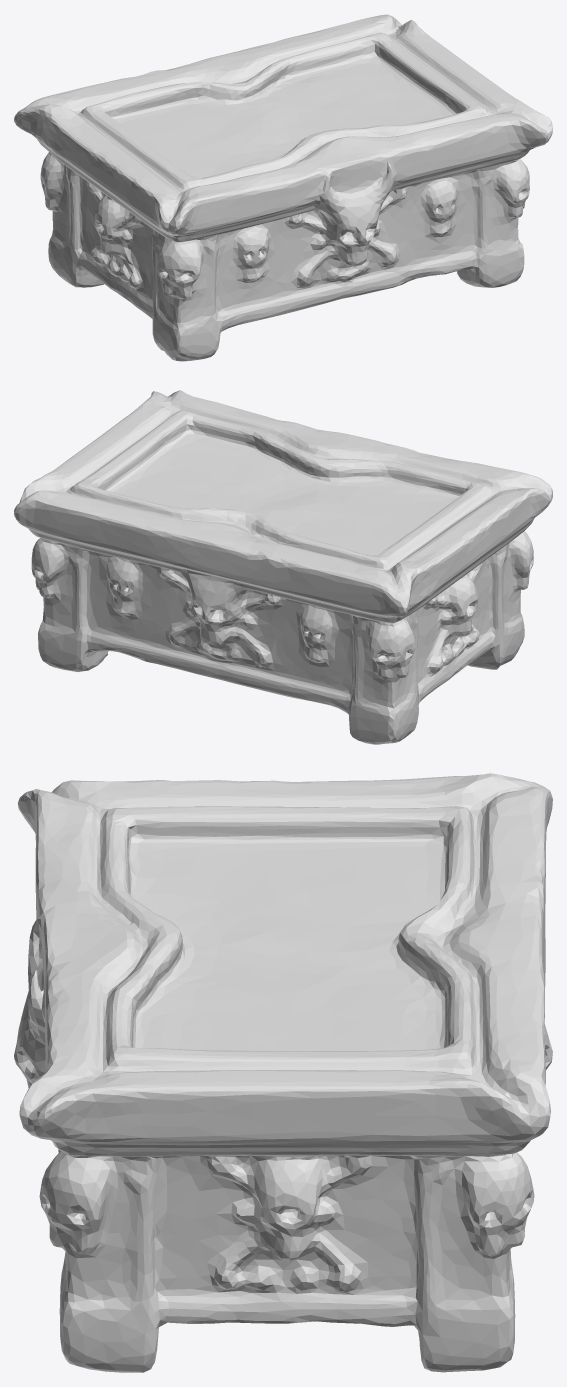
Rendered from altar02.glb.
3 renders of one model, top to bottom at view 1: azimuth 30°, elevation 25°; view 2: azimuth 150°, elevation 25°; view 3: azimuth 270°, elevation 25°, orthographic. The views are drawn at different scales.
Parts seen in each view (by area): view 1: Low; view 2: Low; view 3: Low.
Boxes of the visible parts, x1,y1,x2,y2 form: Low: (14,14,552,361); Low: (14,390,552,744); Low: (14,773,552,1372).
Bounding box in the file's own units: 1.98 × 0.8522 × 1.36.
Materials: 1 (1 with a texture image).
